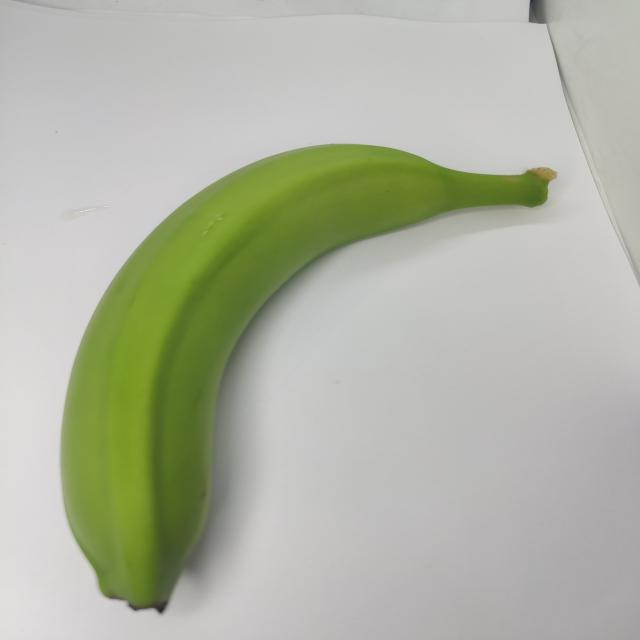raw: (32, 125, 578, 634)
